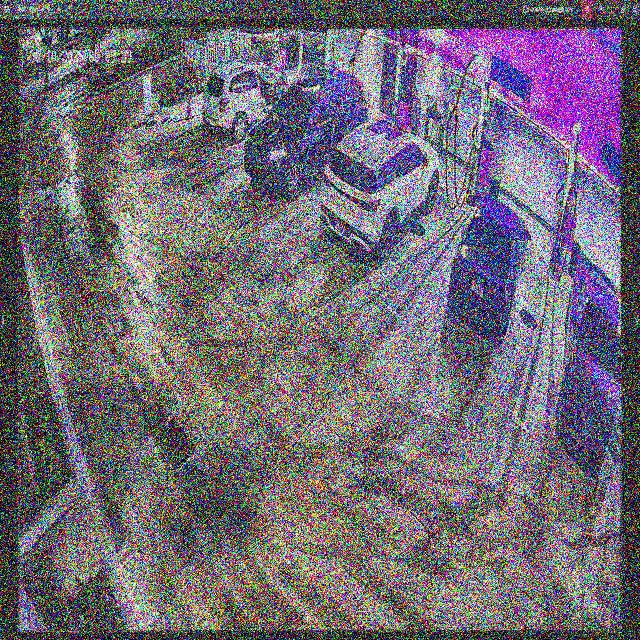Car: (324, 114, 439, 261), (243, 72, 364, 190), (450, 192, 530, 341)
